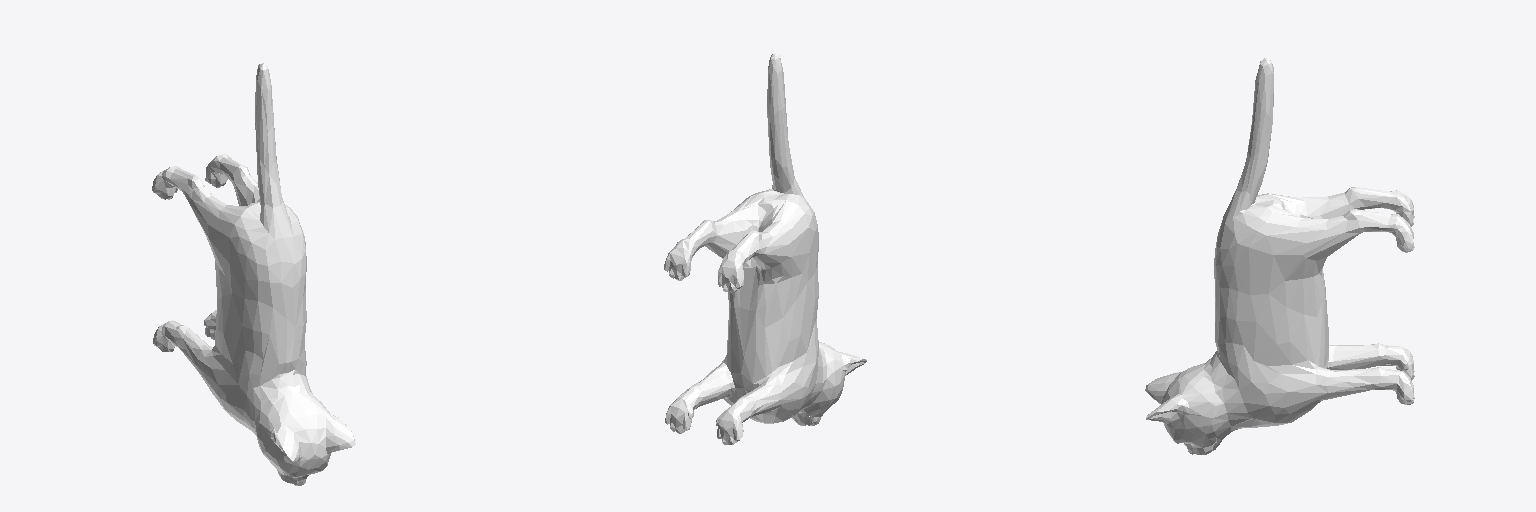
File: cat.obj
The picture shows the model from 3 angles: view 1: azimuth 30°, elevation 25°; view 2: azimuth 150°, elevation 25°; view 3: azimuth 270°, elevation 25°; orthographic projection.
Parts seen in each view (by area): view 1: 12221_Cat_v1_l3; view 2: 12221_Cat_v1_l3; view 3: 12221_Cat_v1_l3.
Boxes of the visible parts, x1=… form: 12221_Cat_v1_l3: x1=152, y1=63, x2=355, y2=485; 12221_Cat_v1_l3: x1=664, y1=53, x2=866, y2=444; 12221_Cat_v1_l3: x1=1145, y1=58, x2=1414, y2=454.
Size of the model in its own units: 12.52 by 60.89 by 37.68.